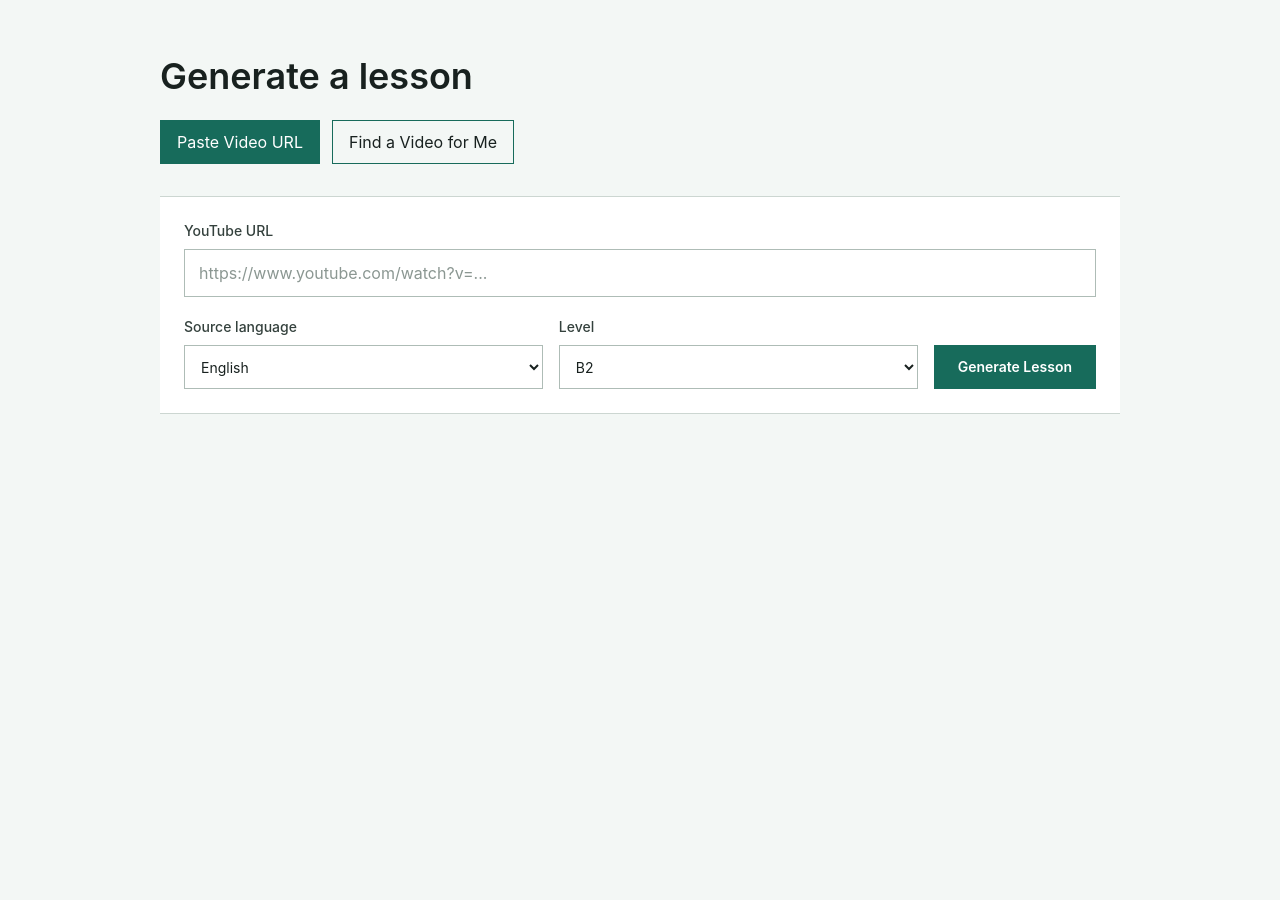
Test: LessonGenerator Library integration › shows a generated Lesson immediately and asynchronously saves it
Type "https://www.youtube.com/watch?v=personal" into the field labelled "YouTube URL" at (640, 273), box [184,249,1096,297]
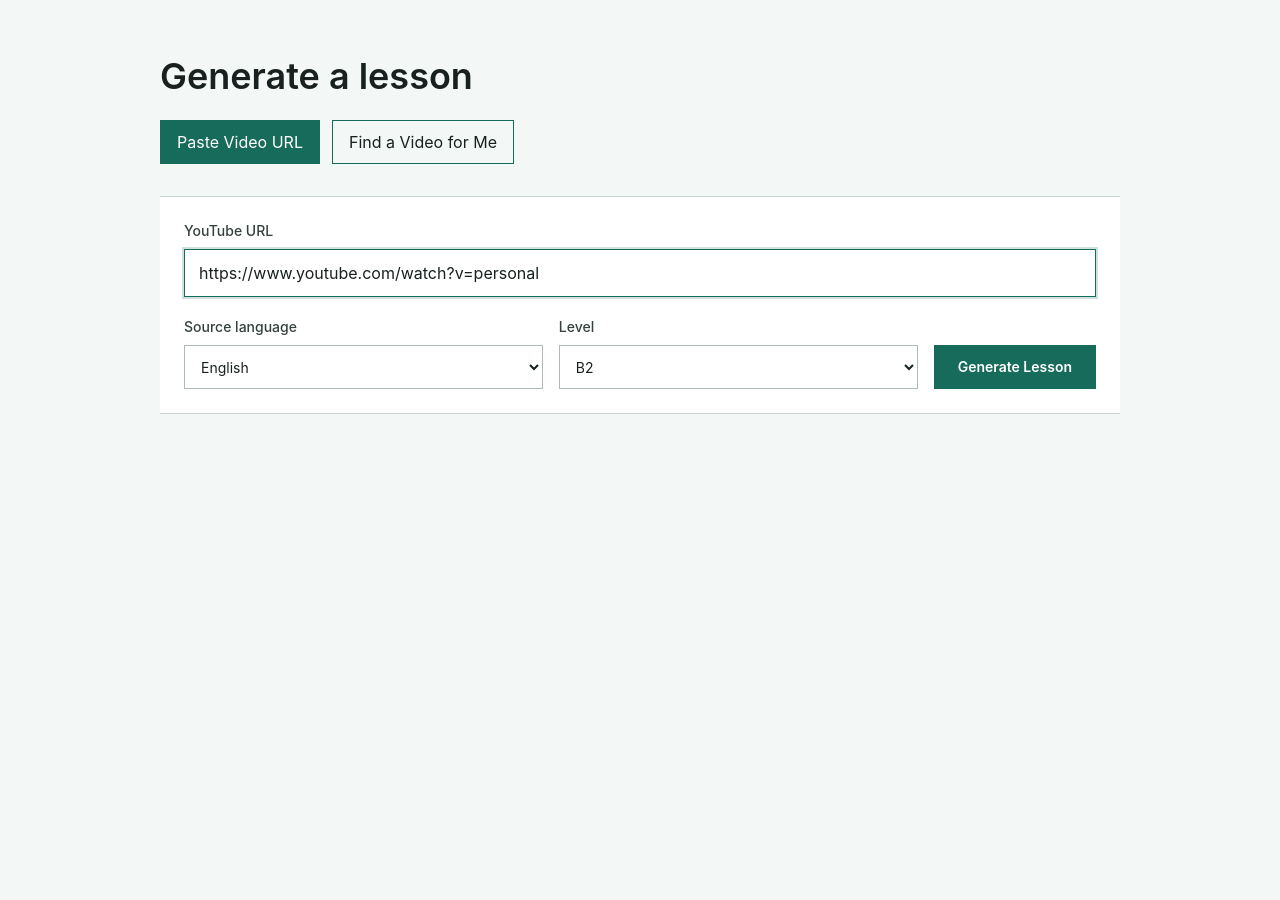
Click the button "Generate Lesson" at (1015, 367), box [934,345,1096,389]
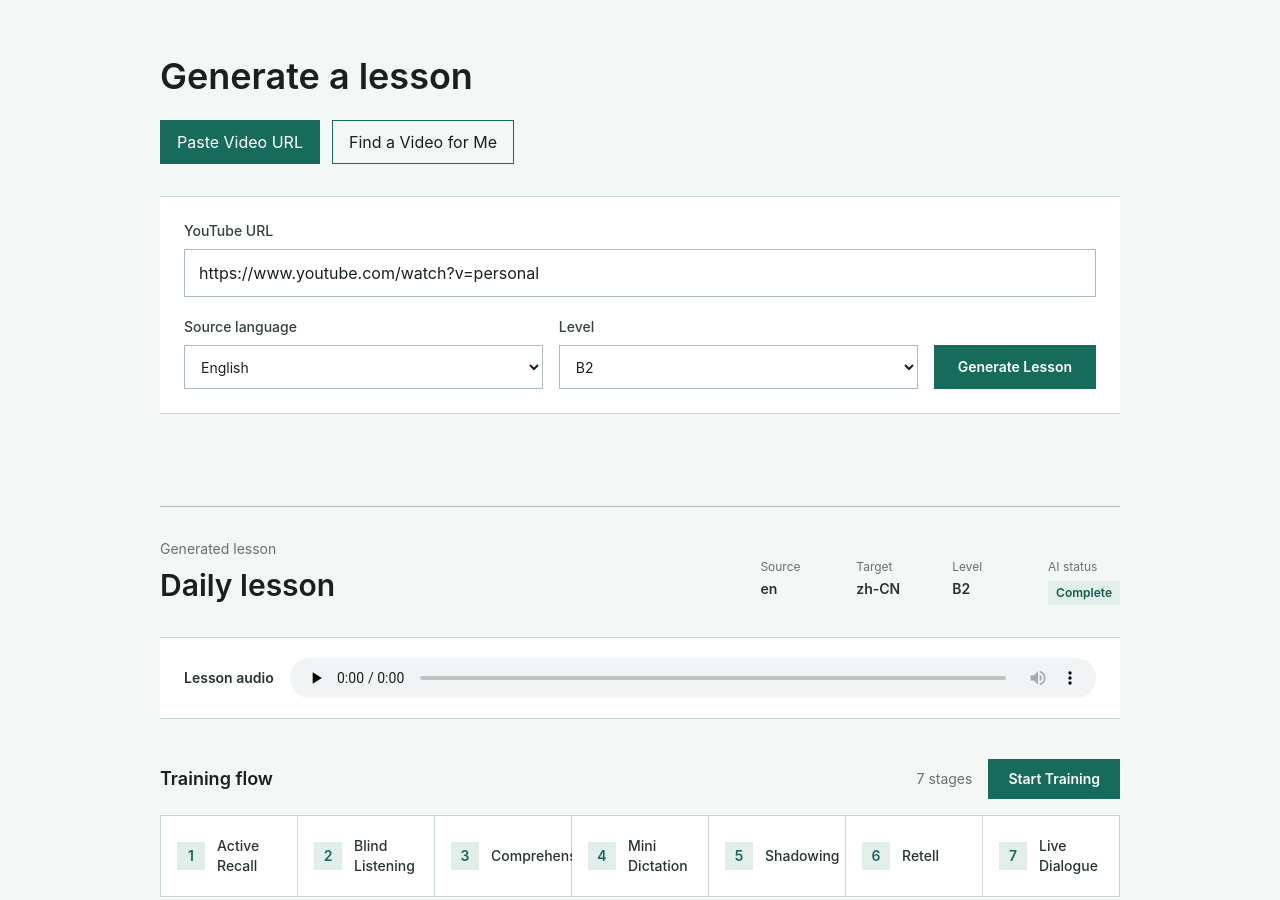
Result: the heading "Daily lesson" is shown at [160,567,335,604]
